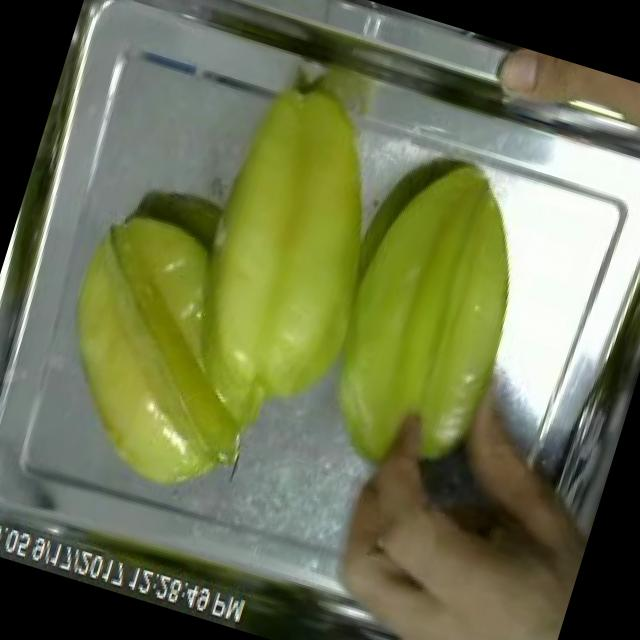fruit: (142, 50, 426, 461), (283, 120, 566, 498), (12, 186, 314, 516), (312, 453, 593, 640), (479, 40, 640, 167)
